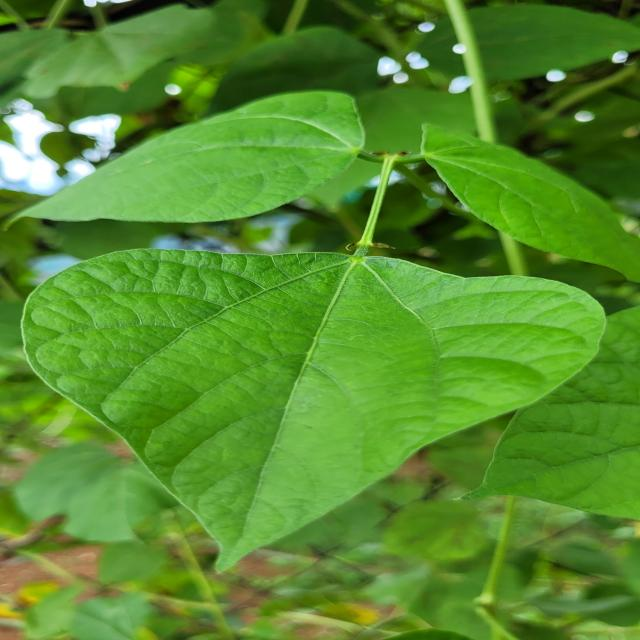Dolicos bean_healthy: (18, 250, 608, 570), (3, 84, 370, 227), (409, 116, 640, 276), (21, 0, 230, 90), (443, 2, 640, 63)
